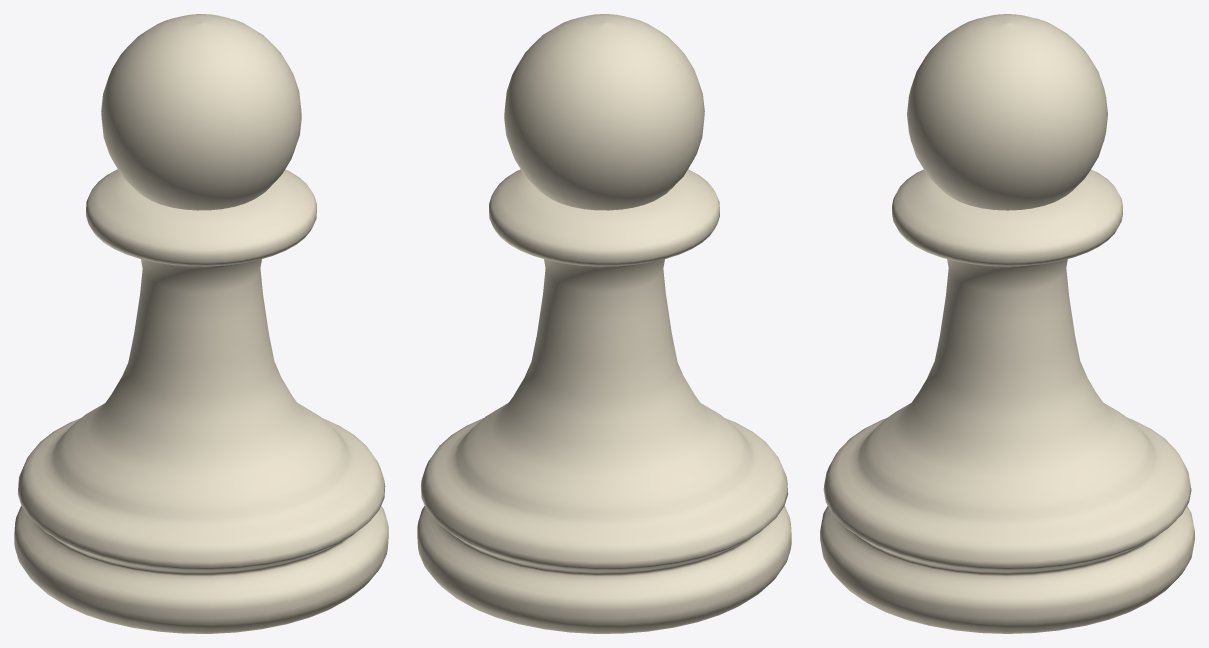
Rendered from white_pawn.glb.
3 renders of one model, left to right at view 1: azimuth 30°, elevation 25°; view 2: azimuth 150°, elevation 25°; view 3: azimuth 270°, elevation 25°, orthographic.
Visible parts, largest first — view 1: white pawn; view 2: white pawn; view 3: white pawn.
Boxes of the visible parts, box(x1,y1,x2,y2) form: white pawn: box(14, 14, 388, 633); white pawn: box(417, 14, 791, 633); white pawn: box(820, 14, 1194, 633).
Bounding box in the file's own units: 0.0382 × 0.0615 × 0.0382.
